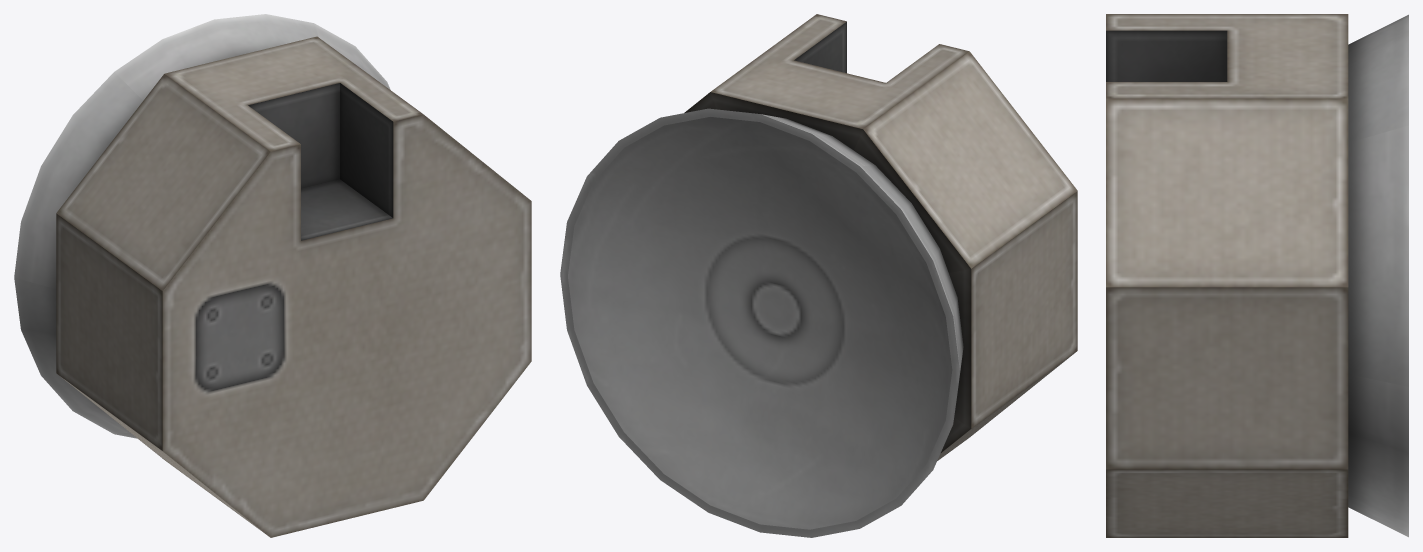
File: eridani_satellite_antenna_srf_1.obj
The picture shows the model from 3 angles, left to right: view 1: azimuth 30°, elevation 25°; view 2: azimuth 150°, elevation 25°; view 3: azimuth 270°, elevation 25°; orthographic projection. The views are drawn at different scales.
Visible parts, largest first — view 1: mesh1; view 2: mesh1; view 3: mesh1.
Part boxes in pixels (bbox=[...]): mesh1: bbox=[14, 14, 531, 537]; mesh1: bbox=[560, 14, 1077, 537]; mesh1: bbox=[1106, 14, 1408, 537].
Bounding box in the file's own units: 0.65 × 0.65 × 0.375.
1 material, 1 textured.
